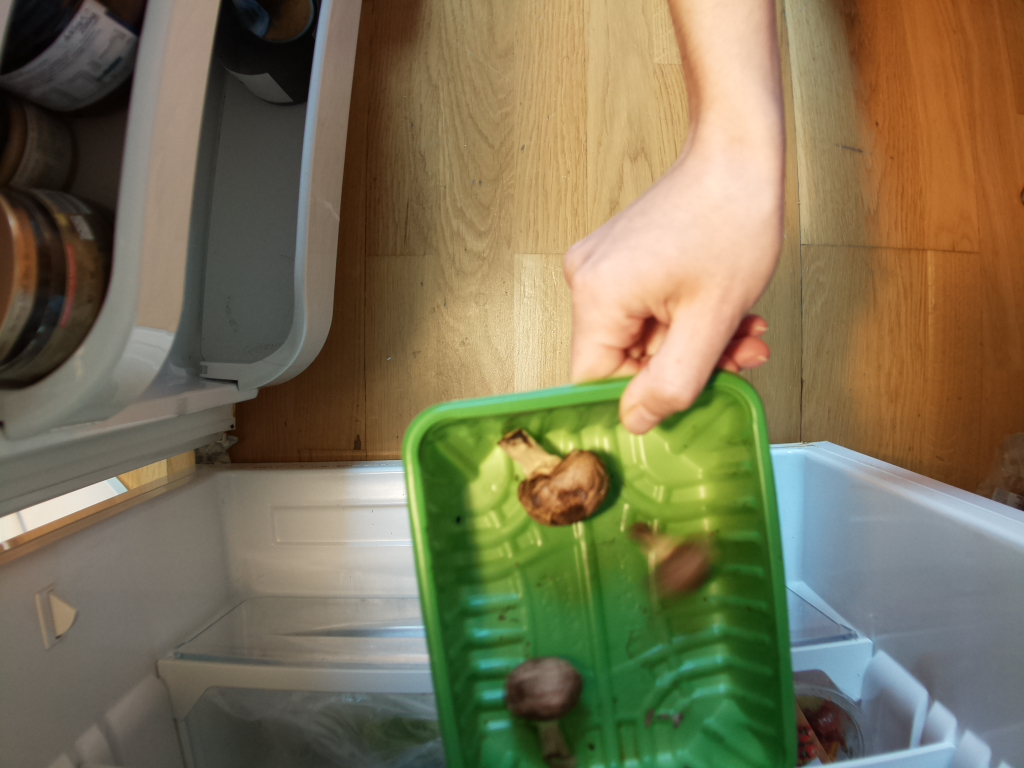mushrooms-bad: (394, 395, 801, 768)
